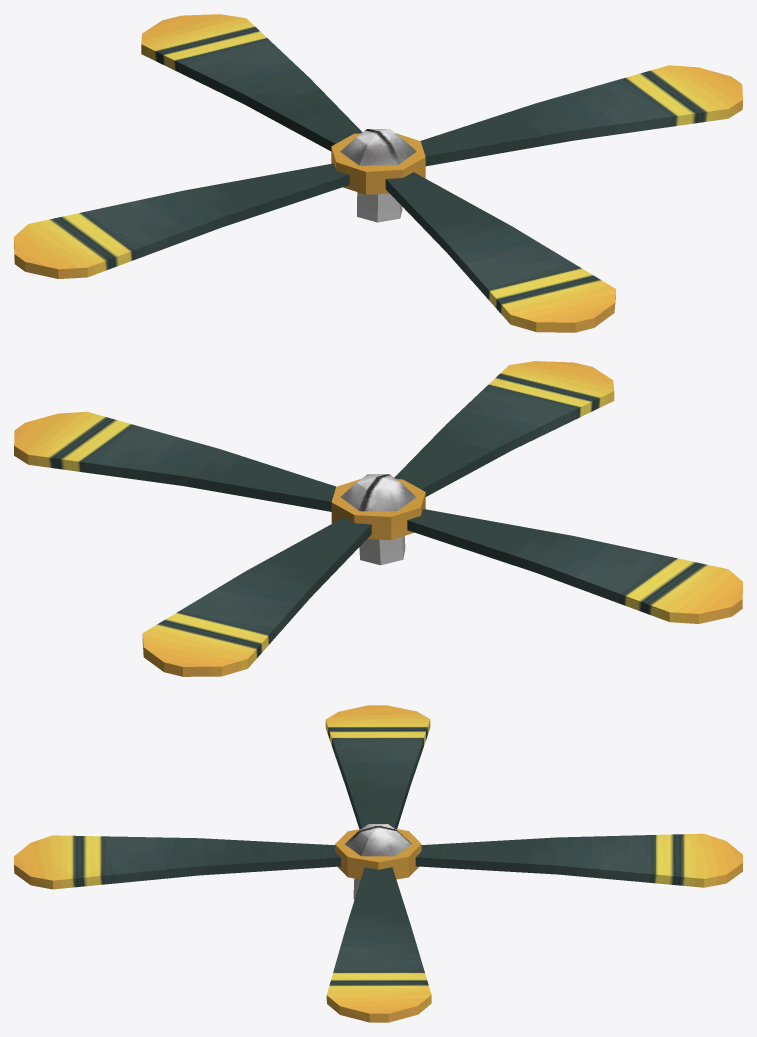
The model's file is heli2.obj.
3 renders of one model, top to bottom at view 1: azimuth 30°, elevation 25°; view 2: azimuth 150°, elevation 25°; view 3: azimuth 270°, elevation 25°, orthographic. The views are drawn at different scales.
Parts seen in each view (by area): view 1: BodyHeli; view 2: BodyHeli; view 3: BodyHeli.
Boxes of the visible parts, x1,y1,x2,y2 form: BodyHeli: (14,14,742,332); BodyHeli: (14,361,742,676); BodyHeli: (14,705,742,1022).
Bounding box in the file's own units: 15.47 × 1.65 × 15.37.
